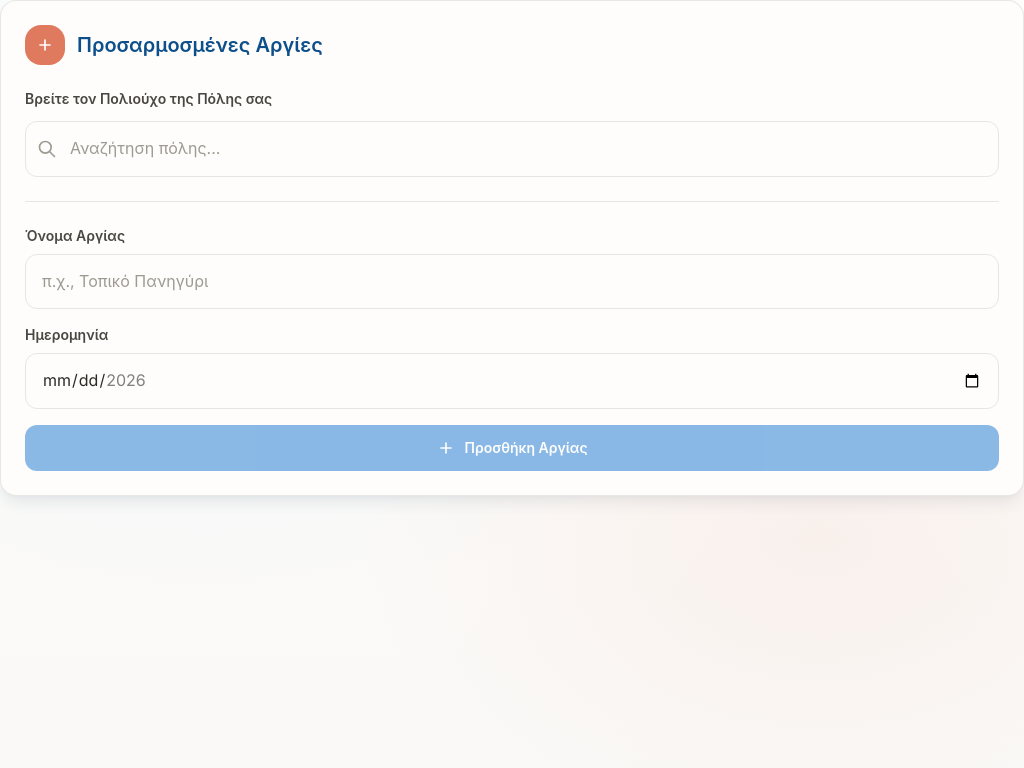
it: CustomHolidaysCard › Town Search › should show clear button when search has text
The image size is (1024, 768).
In the field with placeholder "Αναζήτηση πόλης...": coordinates (512, 149) 25,121 -> 999,177, type "Αθήνα"
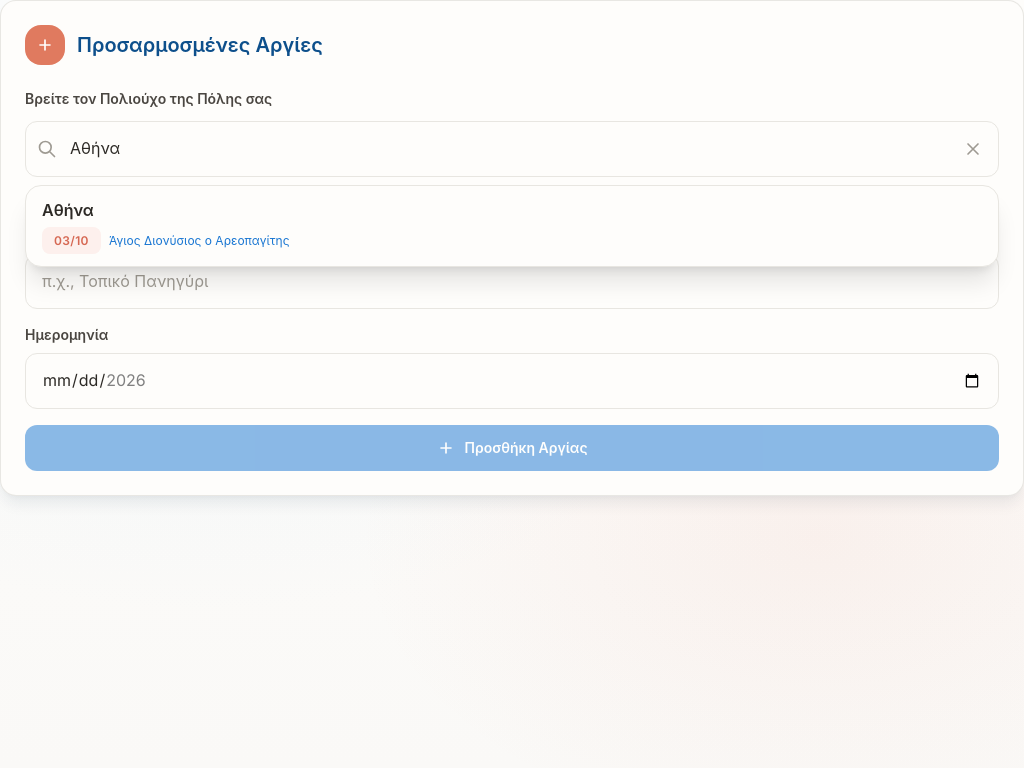
Expected: the button with class "right-4" is shown, 963,139 -> 983,159
